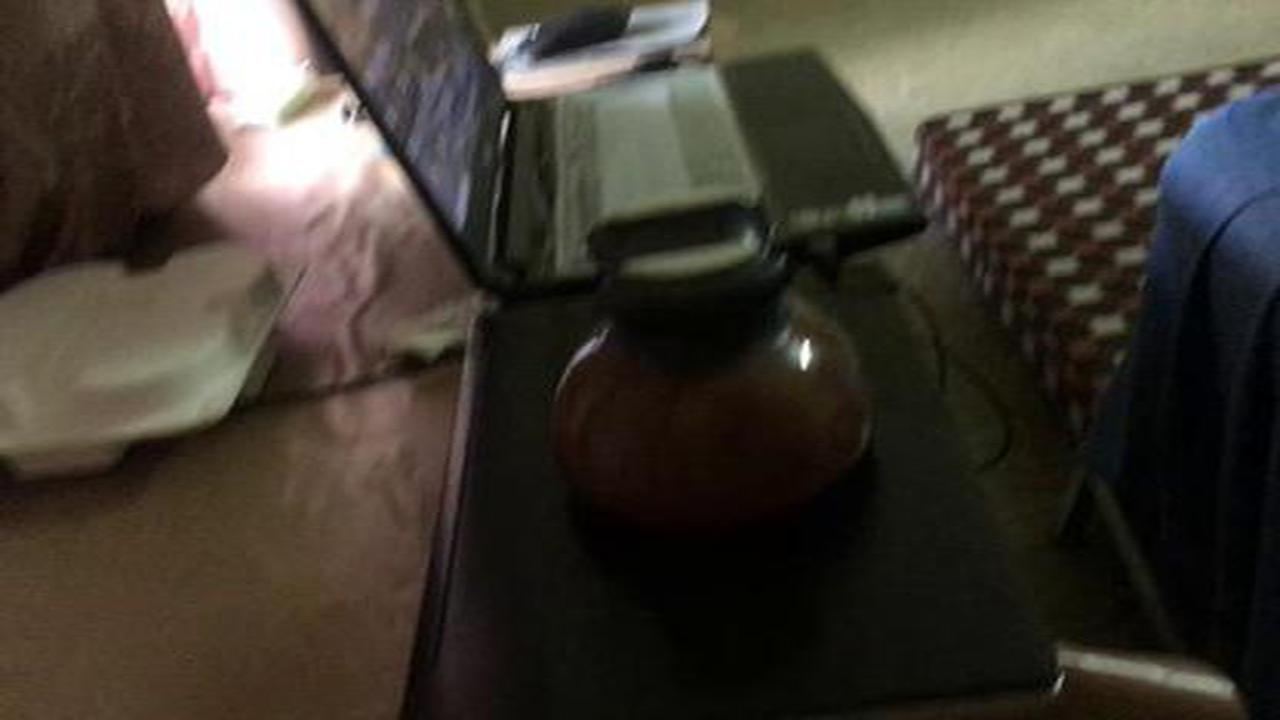insulator_pin: (527, 200, 899, 546)
